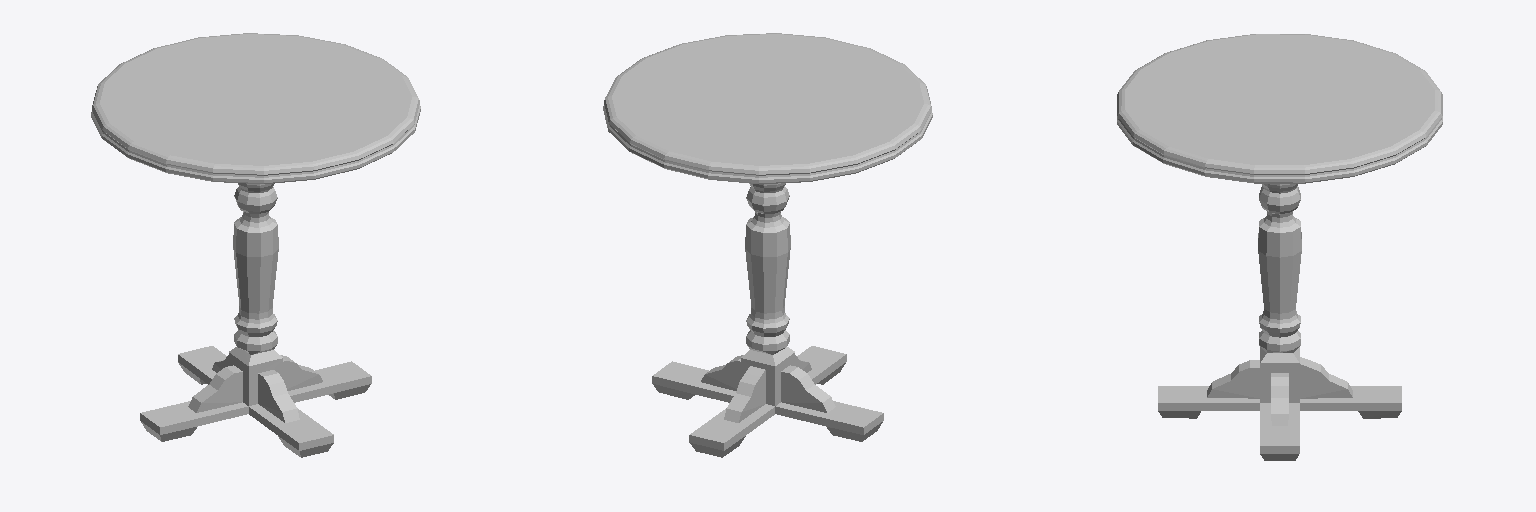
The model's file is table.obj.
3 renders of one model, left to right at view 1: azimuth 30°, elevation 25°; view 2: azimuth 150°, elevation 25°; view 3: azimuth 270°, elevation 25°, orthographic.
Parts seen in each view (by area): view 1: pCylinder9_lambert1_0; view 2: pCylinder9_lambert1_0; view 3: pCylinder9_lambert1_0.
Part boxes in pixels (x1,y1,x2,y2): pCylinder9_lambert1_0: (91, 33, 420, 457); pCylinder9_lambert1_0: (603, 33, 932, 457); pCylinder9_lambert1_0: (1117, 34, 1442, 460).
Bounding box in the file's own units: 0.6599 × 0.6969 × 0.6599.